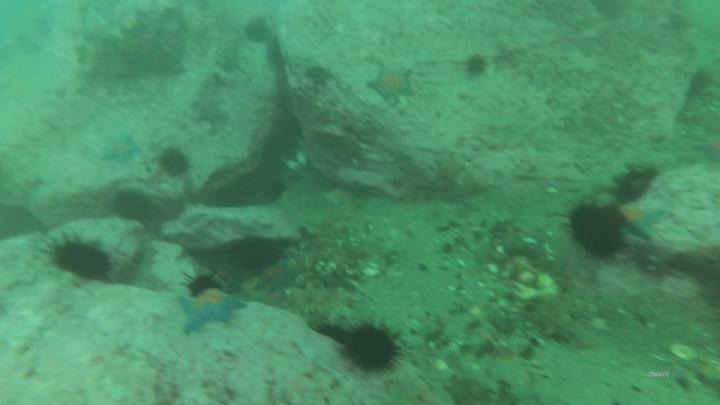echinus: (571, 209, 622, 257), (348, 328, 395, 374), (57, 244, 111, 279), (238, 242, 274, 273), (615, 171, 651, 202), (115, 192, 151, 222), (162, 149, 187, 178), (243, 23, 269, 43), (265, 180, 288, 201), (468, 57, 485, 73)
holothurian: (544, 295, 589, 350), (266, 287, 349, 311)
starfish: (181, 290, 248, 333), (370, 68, 418, 104), (257, 263, 298, 292), (193, 95, 226, 131), (438, 154, 464, 184), (106, 140, 139, 163)
